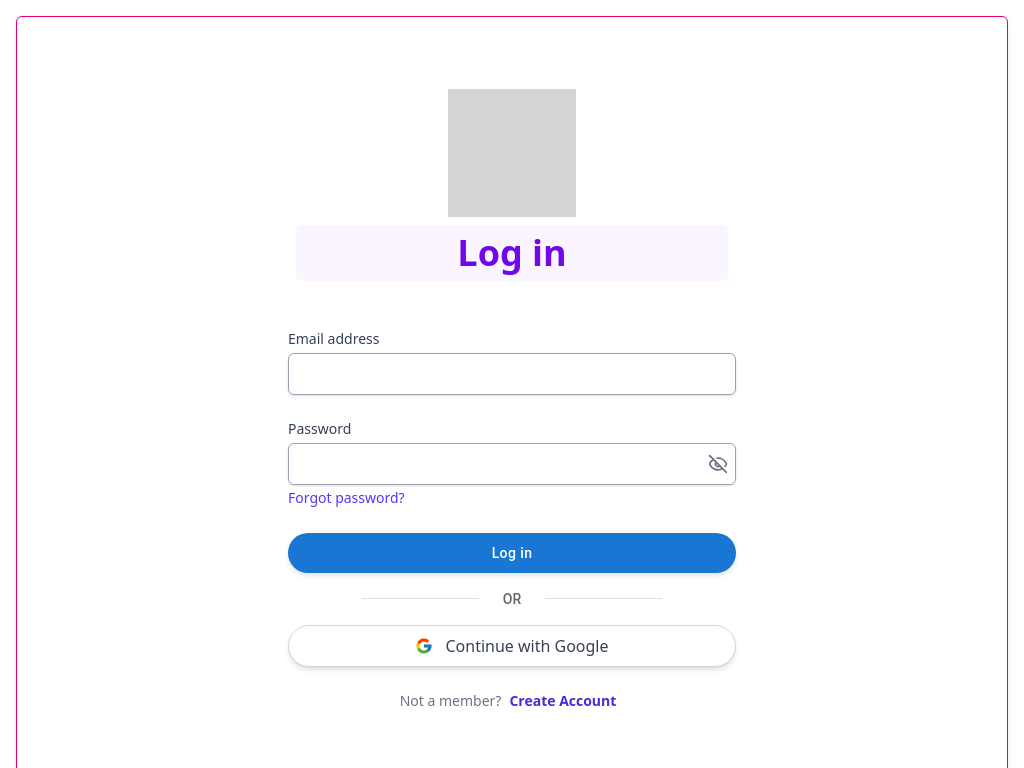
Login Component › shows error message if Google Sign-In fails
Click the button "Continue with Google": click(512, 646) [288,625,736,667]
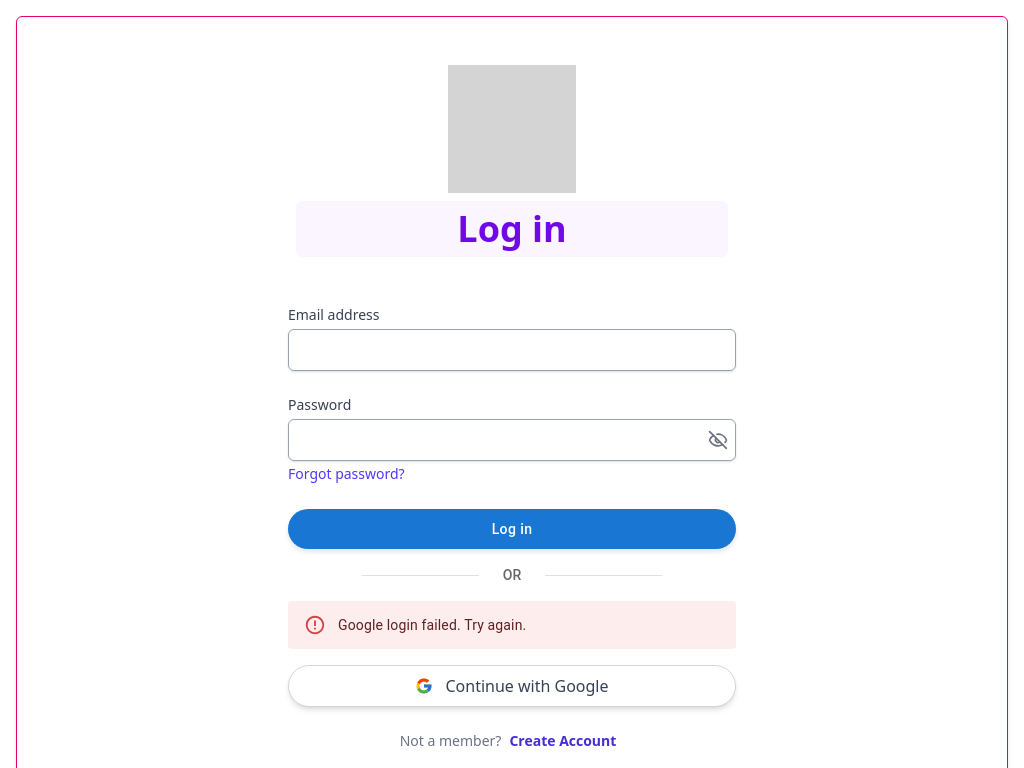
Result: the text "Google login failed. Try again." is shown at [338,617,526,633]
